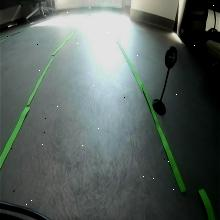right: (164, 44, 178, 69)
